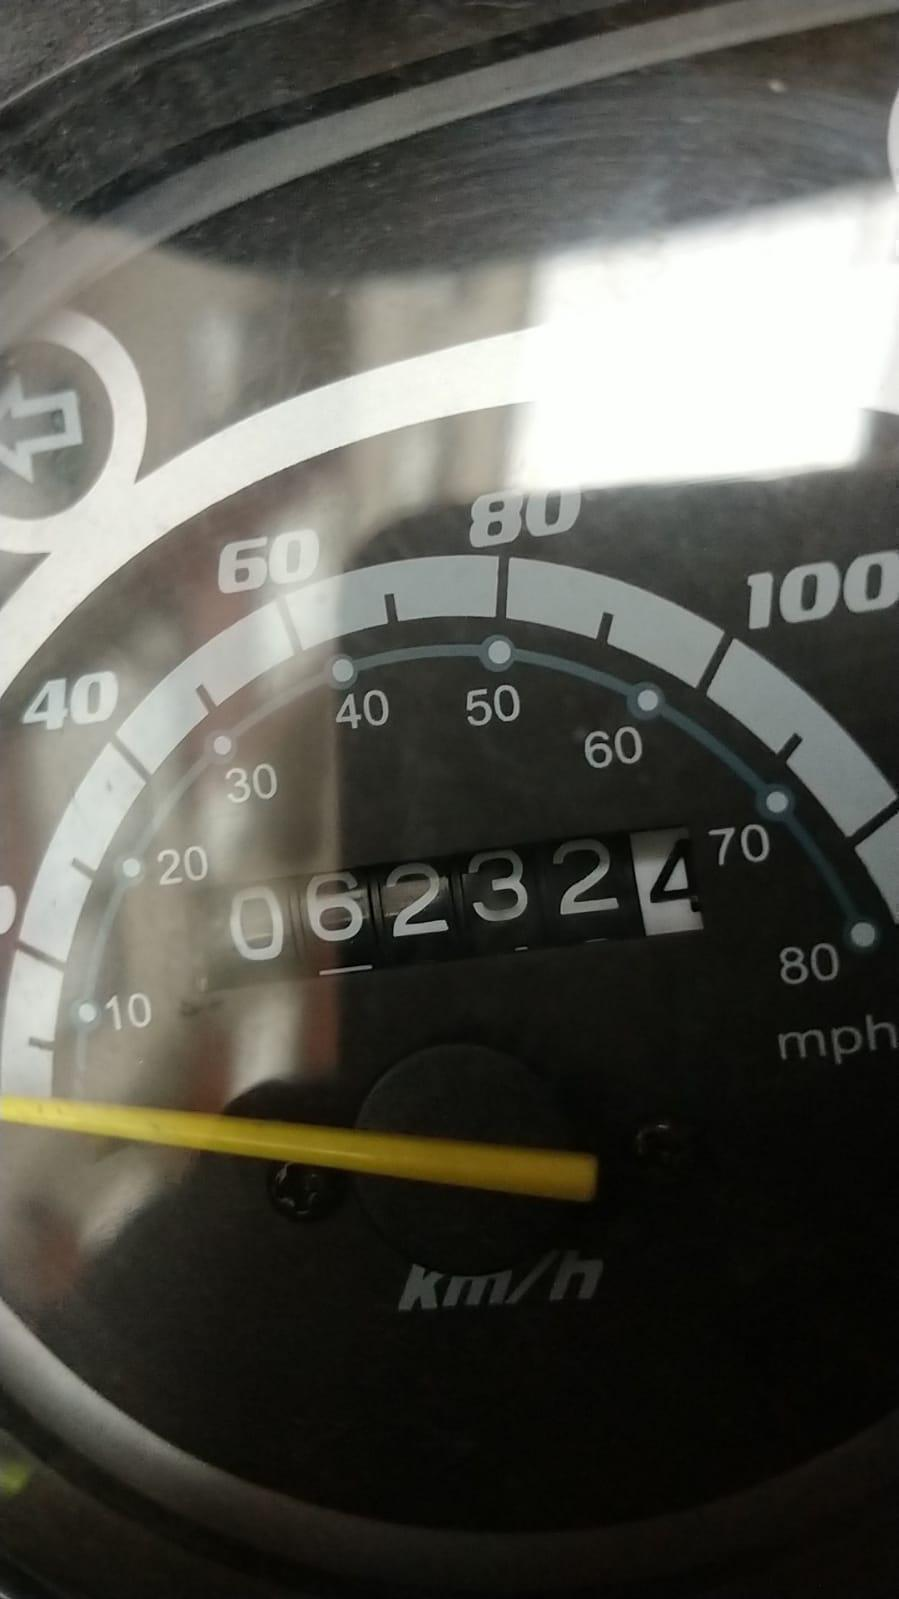0: (225, 882, 290, 964), (184, 845, 213, 887)
2: (548, 836, 623, 918), (383, 858, 452, 939)
3: (464, 846, 532, 927)
4: (641, 834, 706, 923)
6: (300, 869, 368, 944)
odometer: (180, 814, 711, 999)
